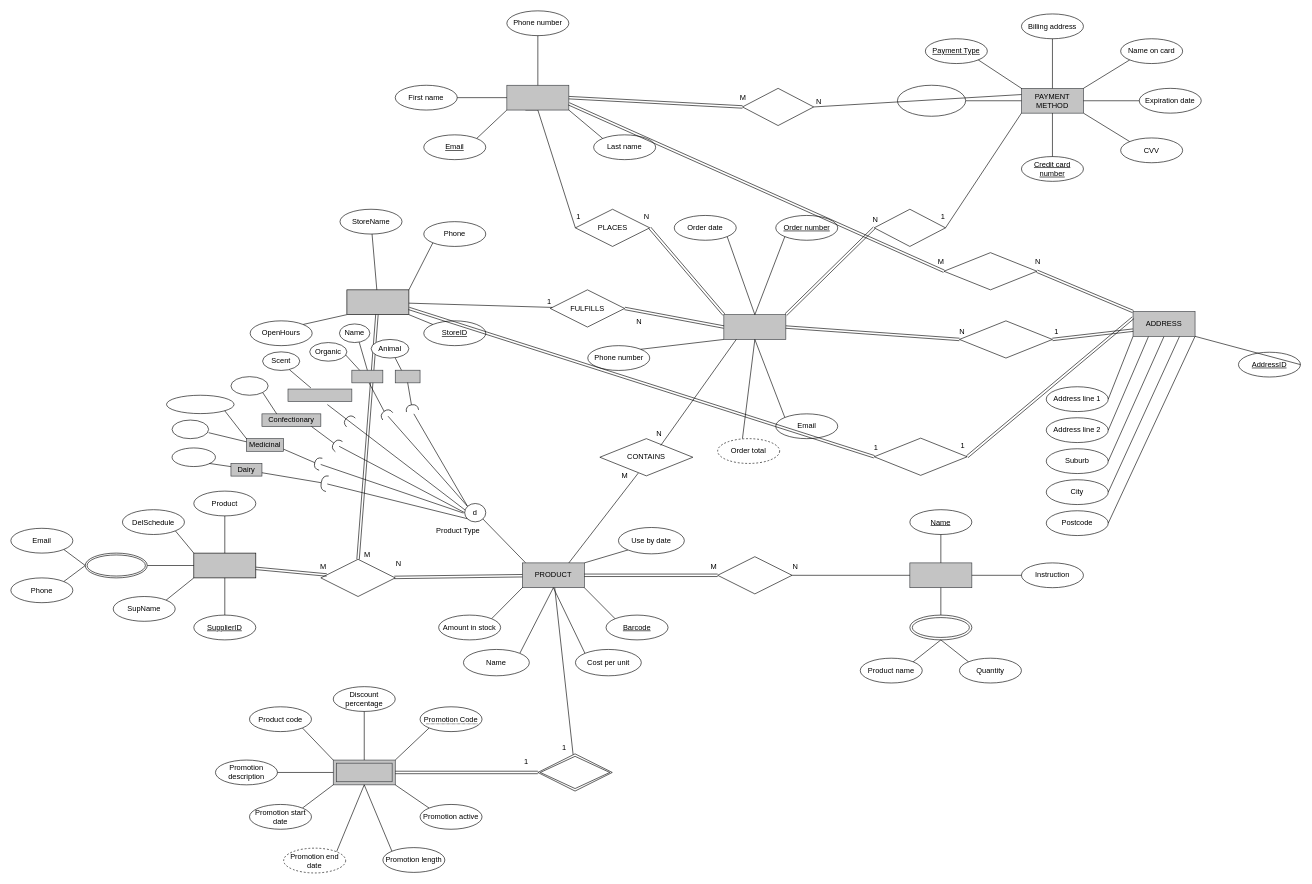
Image size: 1312x884. Some labels were removed from this diagram. The centre of each missing label's shape, as x and y in pixels:
Active Ingredient: the point at 200,404
Category: the point at 193,457
Contact: the point at 116,565
CUSTOMER: the point at 537,97
DELIVERED TO: the point at 1005,339
Dosage: the point at 190,429
INCLUDES: the point at 910,227
Ingredient: the point at 940,627
LOCATED AT: the point at 920,456
Meat: the point at 407,376
OFFERS: the point at 574,772
ORDER: the point at 754,326
Payment method fees: the point at 931,100
PAYS WITH: the point at 778,107
Personal Hygiene: the point at 319,394
Produce: the point at 367,376
PROMOTION: the point at 364,772
RECEIVES ORDER: the point at 990,271
RECIPE: the point at 940,575
REQUIRES: the point at 754,575
STORE: the point at 377,302
SUPPLIER: the point at 224,565
SUPPLIES: the point at 357,578
Type: the point at 249,385
